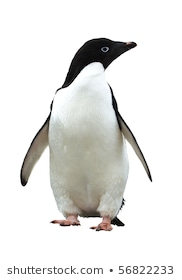penguin: (11, 18, 162, 236)
